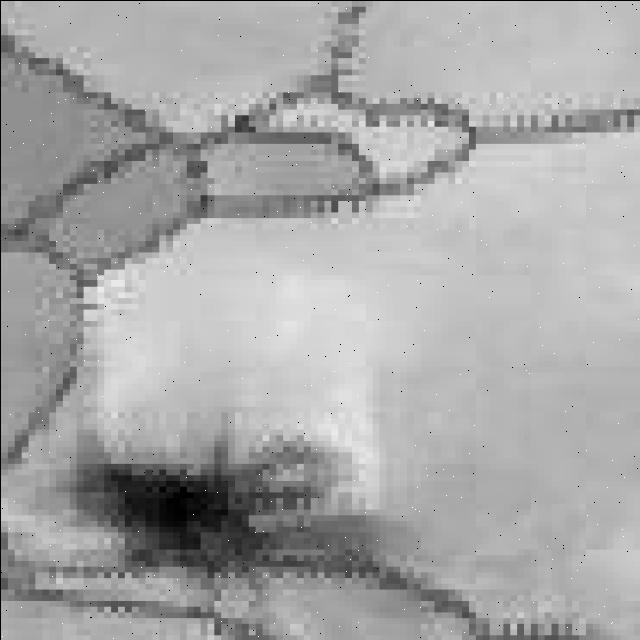good_void: (72, 429, 383, 595)
